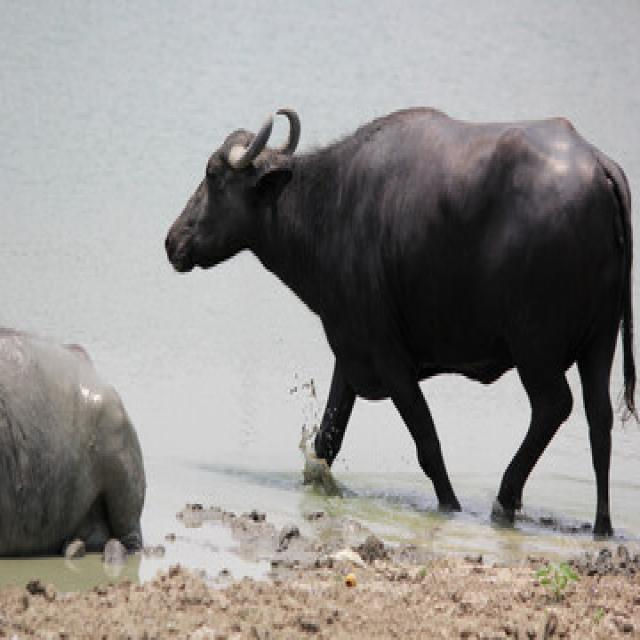Buffalo: (160, 107, 639, 544)
